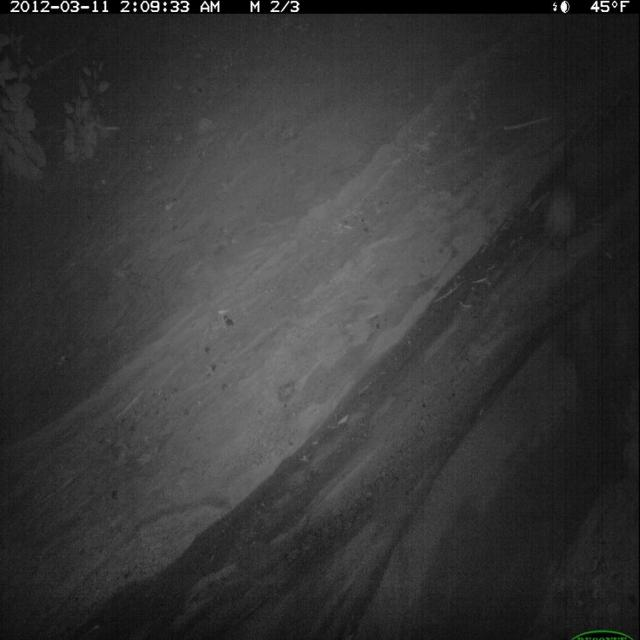opossum: (519, 168, 582, 283)
